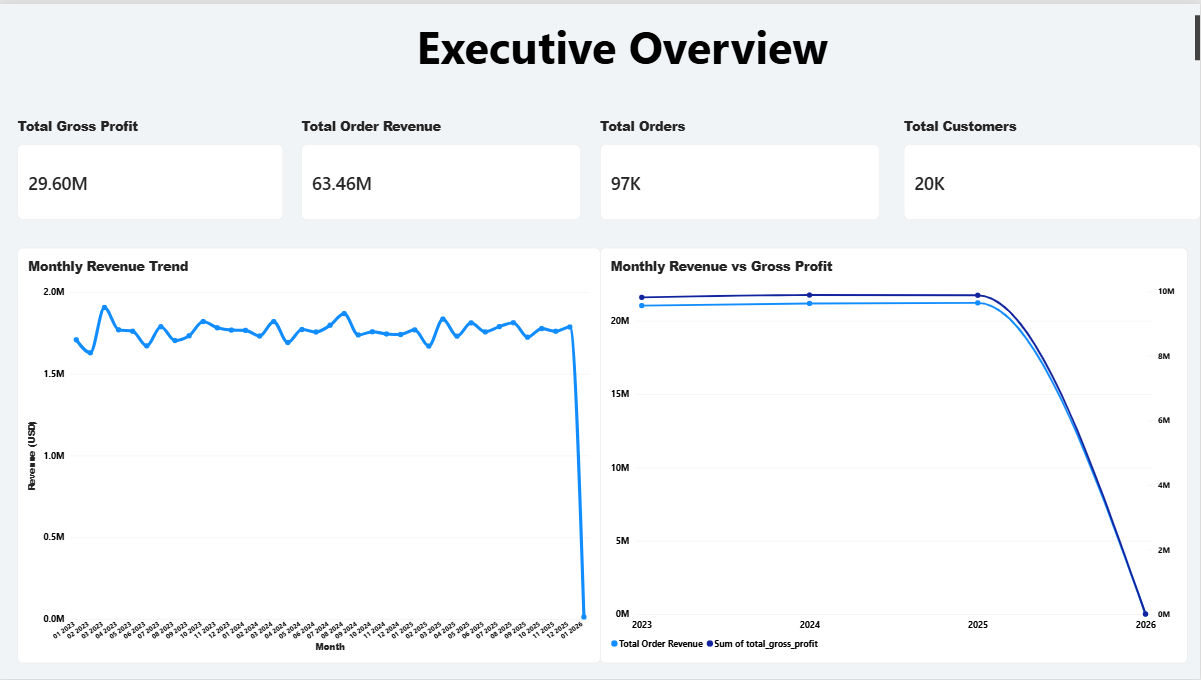

What the dashboard file says about the page in this screenshot:
{"tool":"powerbi","page":{"name":"Executive Overview","canvas":[1920,1080],"ordinal":0},"visuals":[{"type":"cardVisual","title":"Total Orders","fields":{"Data":["Sum(analytics_dbt mart_monthly_performance.total_orders)"]},"box":[960,180,447.5,165],"z":0},{"type":"cardVisual","title":"Total Customers","fields":{"Data":["analytics_dbt dim_customers.Total Customers"]},"box":[1445,180,475,165],"z":1},{"type":"cardVisual","title":"Total Order Revenue","fields":{"Data":["Sum(analytics_dbt mart_monthly_performance.total_order_revenue)"]},"box":[482.5,180,447.5,165],"z":2},{"type":"cardVisual","title":"Total Gross Profit","fields":{"Data":["Sum(analytics_dbt fct_product_performance.total_gross_profit)"]},"box":[27.5,180,425,165],"z":3},{"type":"lineChart","title":"Monthly Revenue Trend","fields":{"Category":["analytics_dbt mart_monthly_performance.order_month"],"Y":["analytics_dbt mart_monthly_performance.Total Order Revenue"]},"box":[27.5,390,932.5,665],"z":4},{"type":"lineChart","title":"Monthly Revenue vs Gross Profit","fields":{"Category":["analytics_dbt mart_monthly_performance.order_month.Variation.Date Hierarchy.Year","analytics_dbt mart_monthly_performance.order_month.Variation.Date Hierarchy.Quarter","analytics_dbt mart_monthly_performance.order_month.Variation.Date Hierarchy.Month","analytics_dbt mart_monthly_performance.order_month.Variation.Date Hierarchy.Day"],"Y":["analytics_dbt mart_monthly_performance.Total Order Revenue"],"Y2":["Sum(analytics_dbt mart_monthly_performance.total_gross_profit)"]},"box":[960,390,940,665],"z":5},{"type":"textbox","box":[0,17.5,1920,117.5],"z":6}]}

Visuals, with their boxes in screenshot pixels (x1, y1, x2, y2), scaled from the page's 1920x1080 canvas onto the 1201x680 screenshot:
"Total Orders" cardVisual: locate(600, 113, 880, 217)
"Total Customers" cardVisual: locate(904, 113, 1200, 217)
"Total Order Revenue" cardVisual: locate(302, 113, 582, 217)
"Total Gross Profit" cardVisual: locate(17, 113, 283, 217)
"Monthly Revenue Trend" lineChart: locate(17, 246, 600, 664)
"Monthly Revenue vs Gross Profit" lineChart: locate(600, 246, 1188, 664)
textbox: locate(0, 11, 1200, 85)
